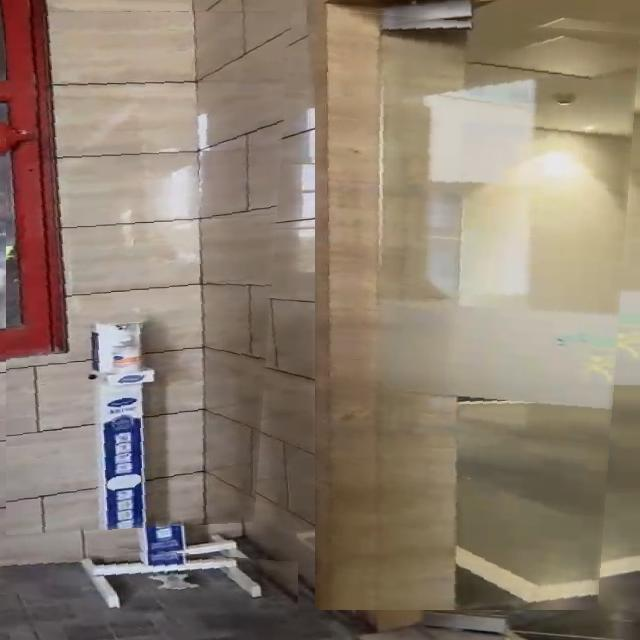door: (315, 10, 640, 610)
floor: (11, 539, 298, 640)
wall: (6, 11, 293, 537)
